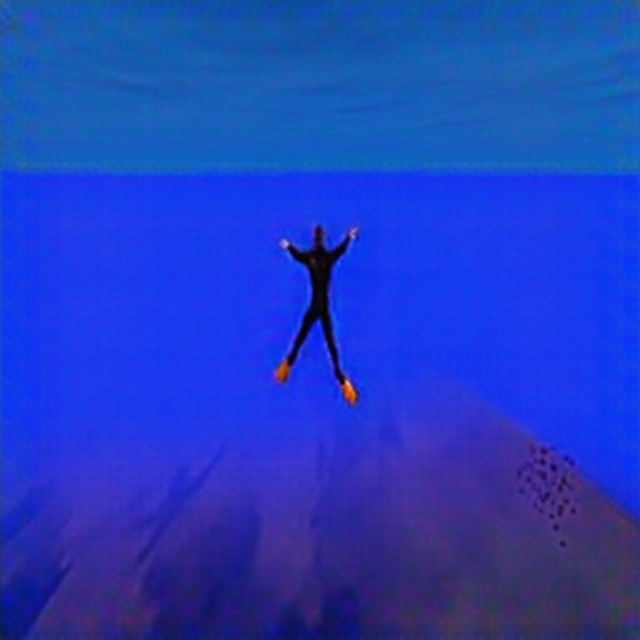diver: (273, 220, 361, 396)
